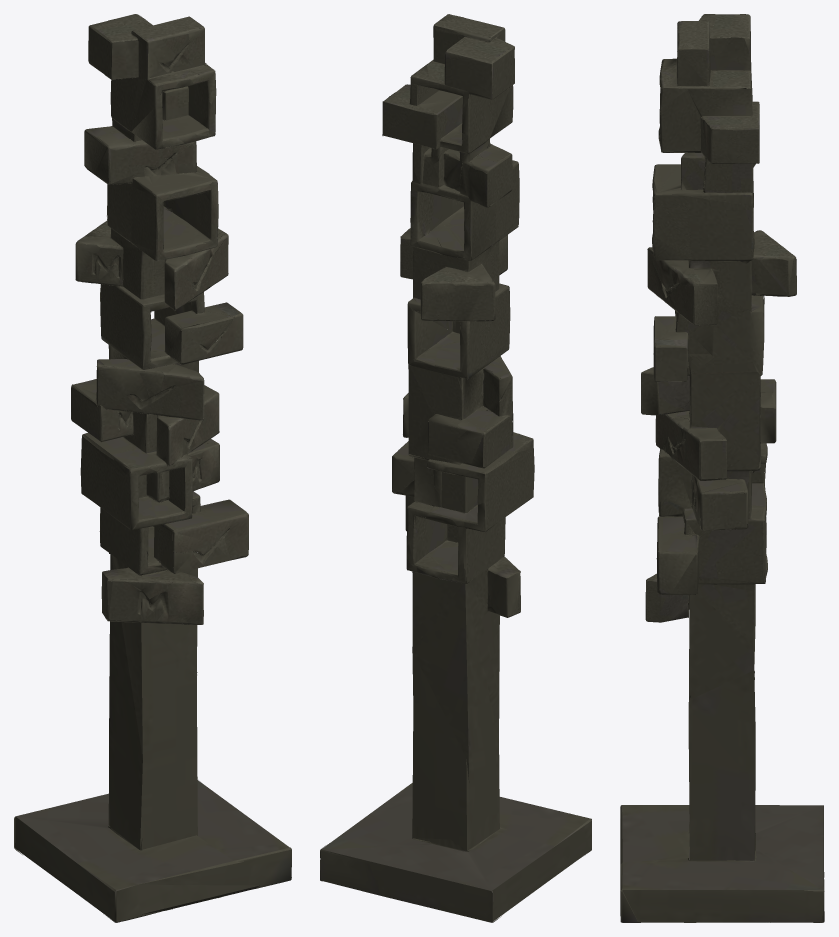
The model's file is formulaire.glb.
3 views of the same model, side by side, from view 1: azimuth 30°, elevation 25°; view 2: azimuth 150°, elevation 25°; view 3: azimuth 270°, elevation 25° (orthographic). The views are drawn at different scales.
Parts seen in each view (by area): view 1: Mesh_0; view 2: Mesh_0; view 3: Mesh_0.
Part boxes in pixels (x1,y1,x2,y2): Mesh_0: (14, 14, 291, 922); Mesh_0: (320, 14, 591, 922); Mesh_0: (620, 14, 824, 922).
Size of the model in its own units: 0.2843 by 1.3 by 0.2845.
Materials: 1 (1 with a texture image).
